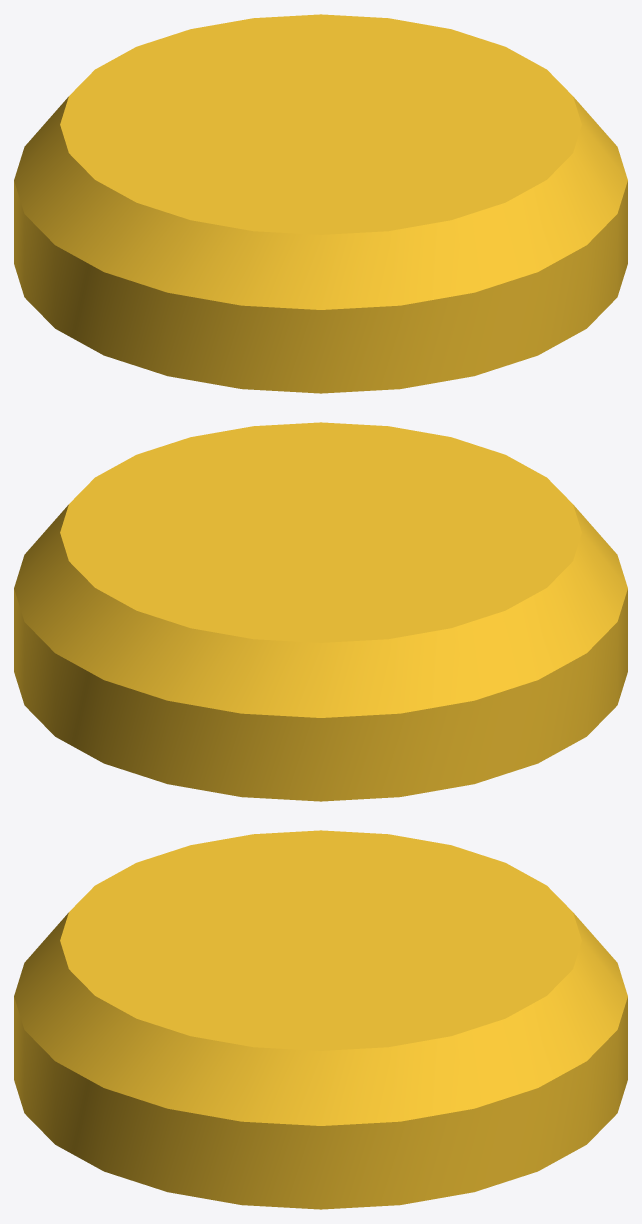
The model's file is hockey_puck.fbx.
3 views of the same model, one above another, from view 1: azimuth 30°, elevation 25°; view 2: azimuth 150°, elevation 25°; view 3: azimuth 270°, elevation 25° (orthographic).
Parts seen in each view (by area): view 1: hockey_puck; view 2: hockey_puck; view 3: hockey_puck.
Boxes of the visible parts, box(x1,y1,x2,y2) form: hockey_puck: box(14, 14, 627, 393); hockey_puck: box(14, 422, 627, 801); hockey_puck: box(14, 830, 627, 1209).
Bounding box in the file's own units: 0.08 × 0.02 × 0.08.
